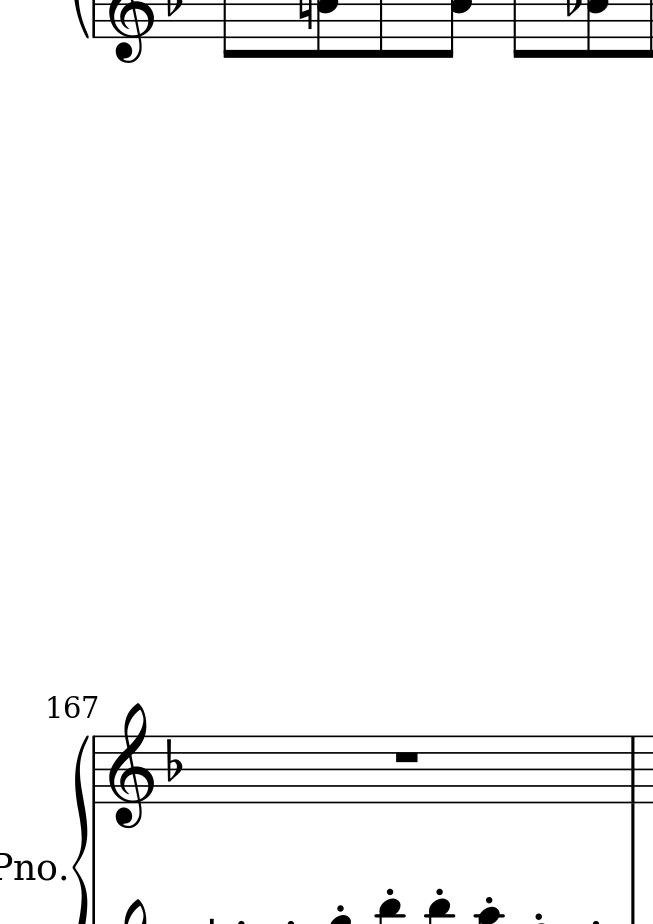1: (47, 695, 60, 722)
6: (63, 692, 80, 720)
7: (82, 694, 98, 719)
Flat: (164, 736, 184, 784)
Gclef: (106, 702, 155, 830)
Pno: (1, 851, 57, 883)
Rests1: (391, 748, 422, 766)
Single_barline: (625, 736, 641, 803), (88, 737, 102, 803)
